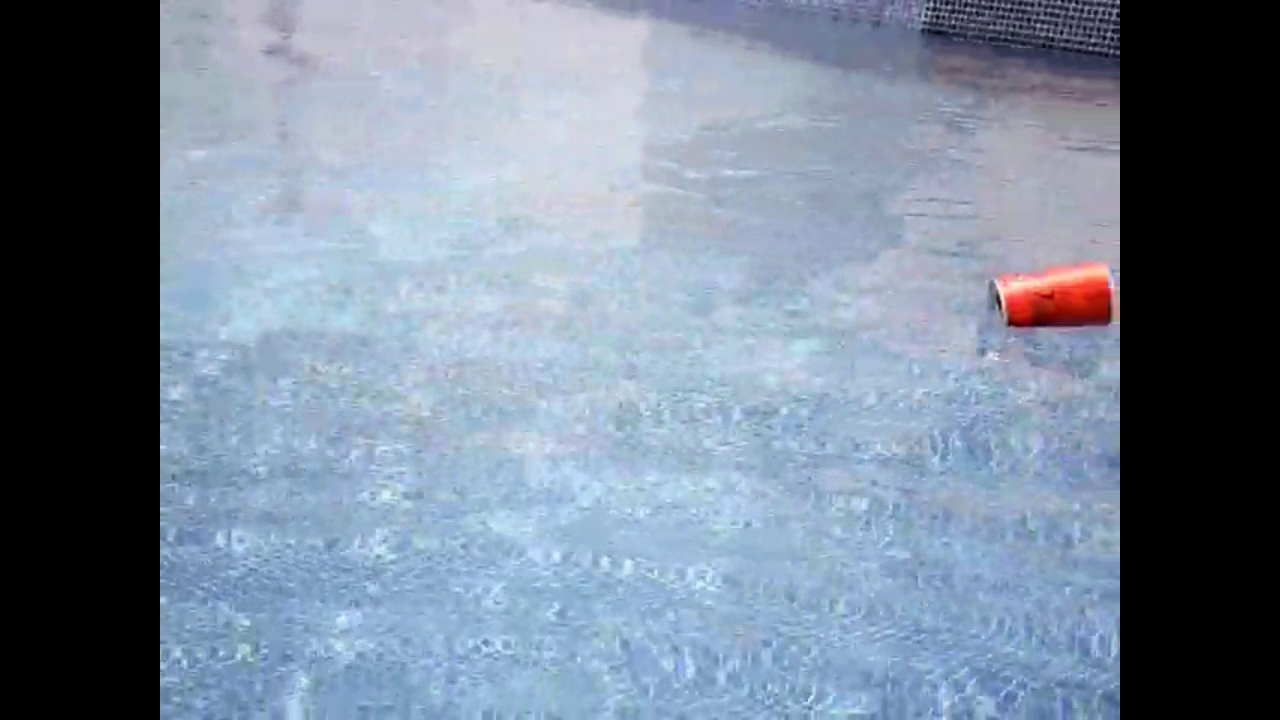debris: (983, 248, 1118, 345)
